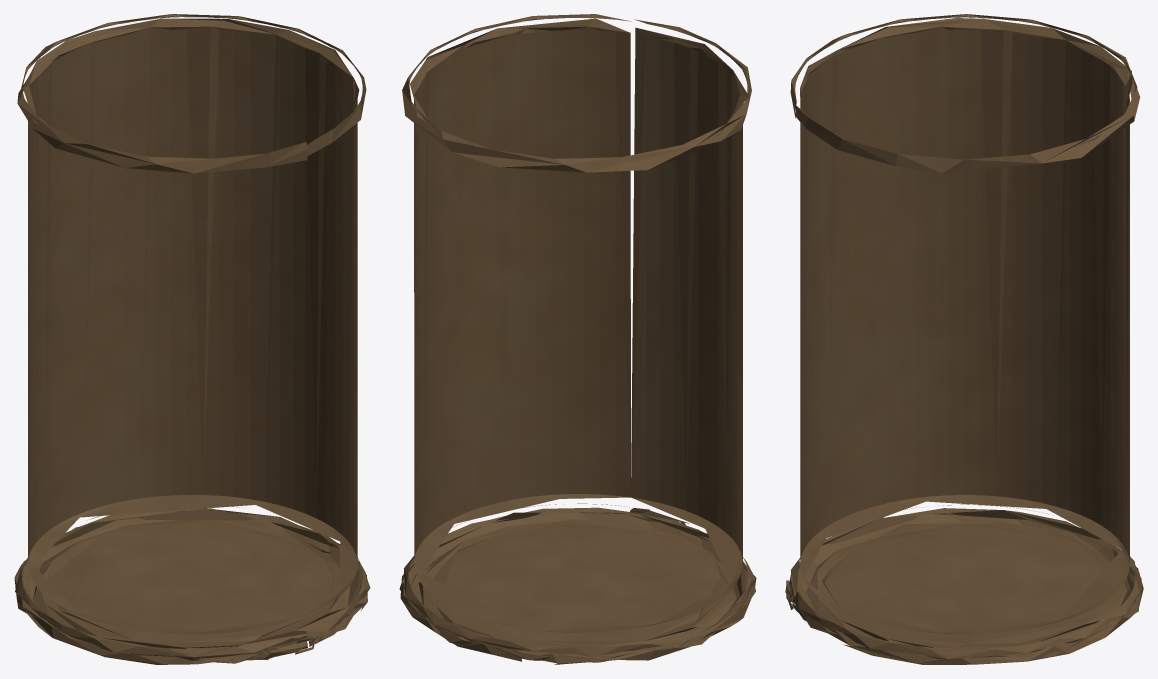
File: drum_fiber_a02.glb
The picture shows the model from 3 angles, left to right: view 1: azimuth 30°, elevation 25°; view 2: azimuth 150°, elevation 25°; view 3: azimuth 270°, elevation 25°; orthographic projection.
Parts seen in each view (by area): view 1: geometry_0; view 2: geometry_0; view 3: geometry_0.
Boxes of the visible parts, <box> form: geometry_0: <box>14,14,370,664</box>; geometry_0: <box>399,14,756,664</box>; geometry_0: <box>785,14,1143,664</box>.
Size of the model in its own units: 0.2665 by 0.42 by 0.2685.
1 material, 1 textured.
